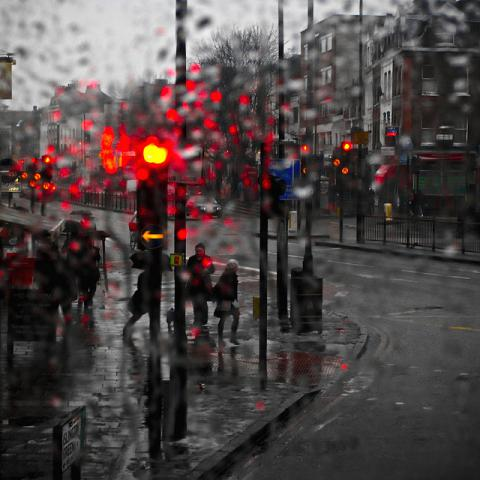car: (186, 196, 223, 221), (18, 183, 32, 201)
